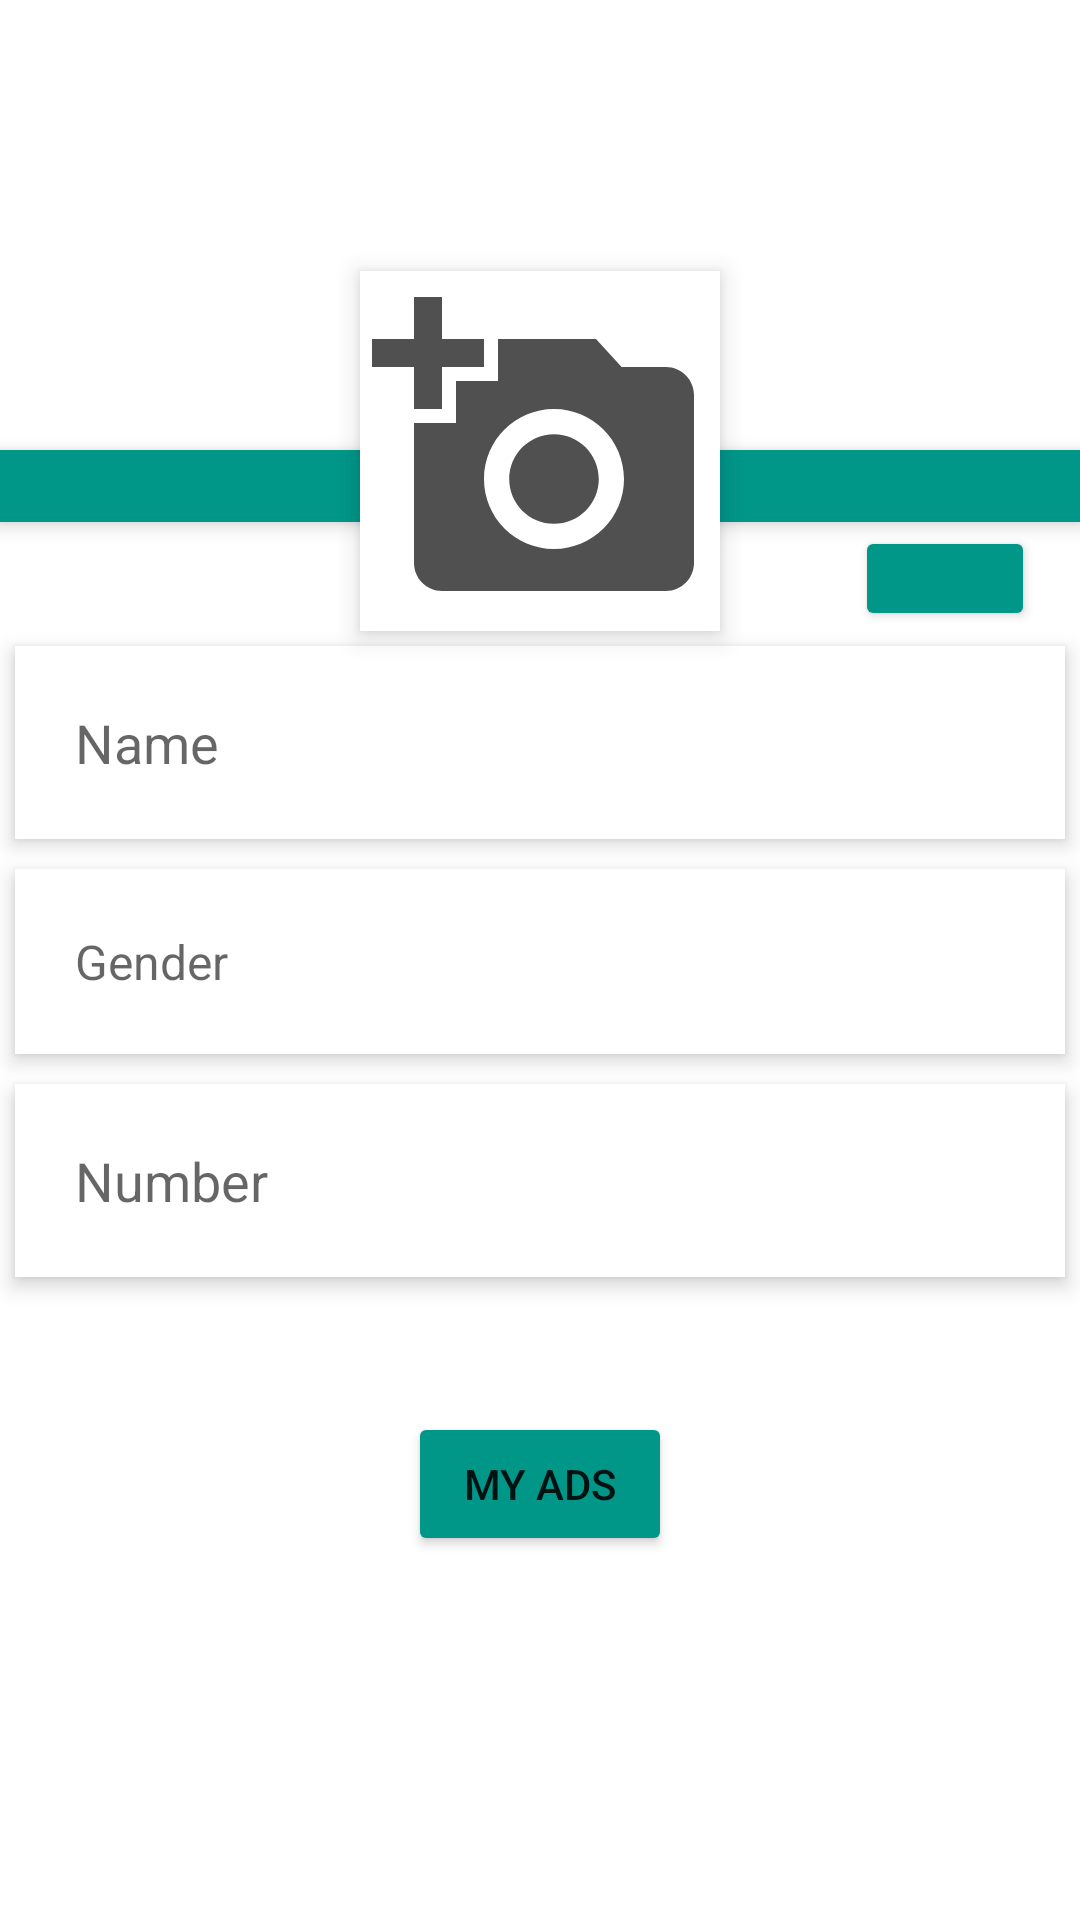

Screen size 1080px x 1920px. Icon name, then its box in pixels as (x1, y1, x2, y2):
add: (372, 297, 694, 591)
